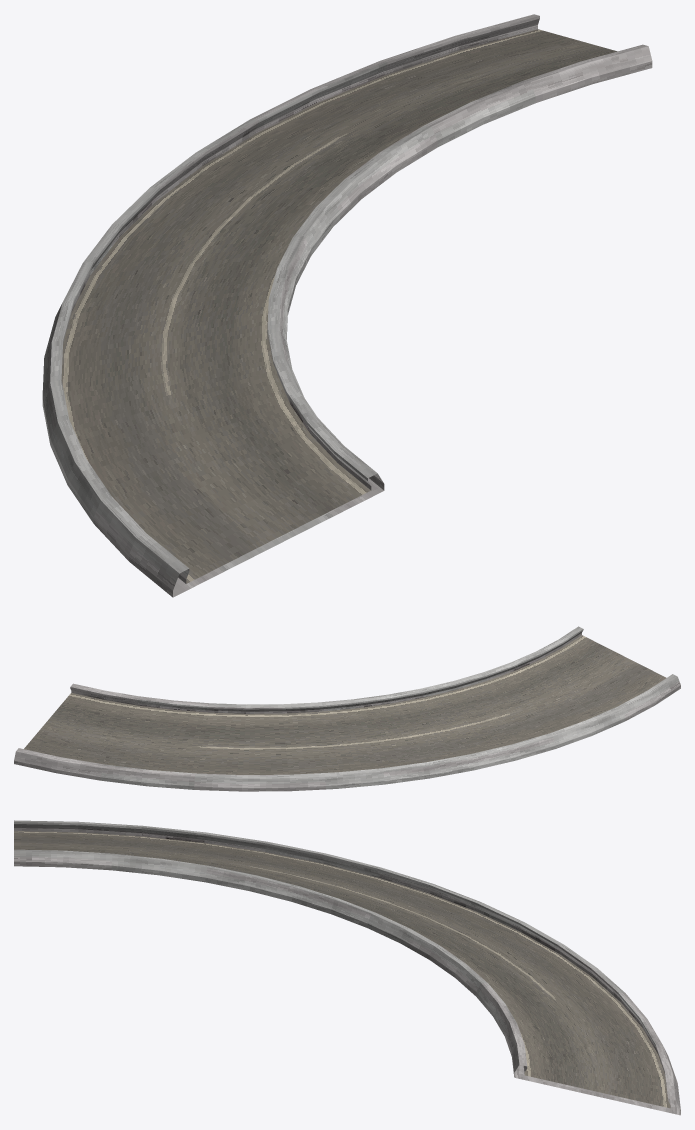
File: turn-right4x4.glb
The picture shows the model from 3 angles, top to bottom: view 1: azimuth 30°, elevation 25°; view 2: azimuth 150°, elevation 25°; view 3: azimuth 270°, elevation 25°; orthographic projection. The views are drawn at different scales.
Visible parts, largest first — view 1: road-Turn-HalfBankedLeft-HalfBankedLeft-Even-Right-Size4; view 2: road-Turn-HalfBankedLeft-HalfBankedLeft-Even-Right-Size4; view 3: road-Turn-HalfBankedLeft-HalfBankedLeft-Even-Right-Size4.
Part boxes in pixels (x1,y1,x2,y2): road-Turn-HalfBankedLeft-HalfBankedLeft-Even-Right-Size4: (42,14,652,597); road-Turn-HalfBankedLeft-HalfBankedLeft-Even-Right-Size4: (14,626,680,791); road-Turn-HalfBankedLeft-HalfBankedLeft-Even-Right-Size4: (14,820,680,1115).
Bounding box in the file's own units: 4 × 0.3359 × 4.
2 materials, 2 textured.
